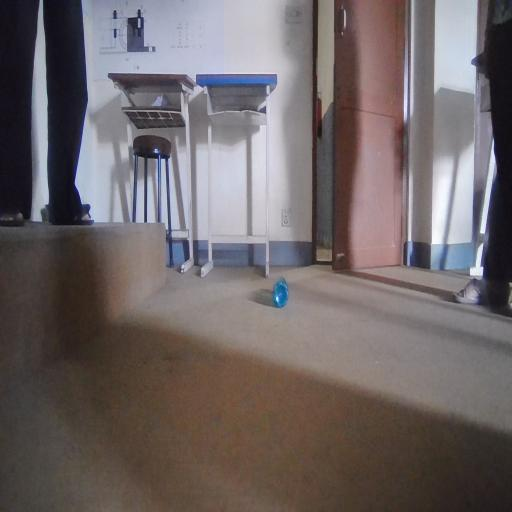Bottle: (271, 254, 309, 343)
